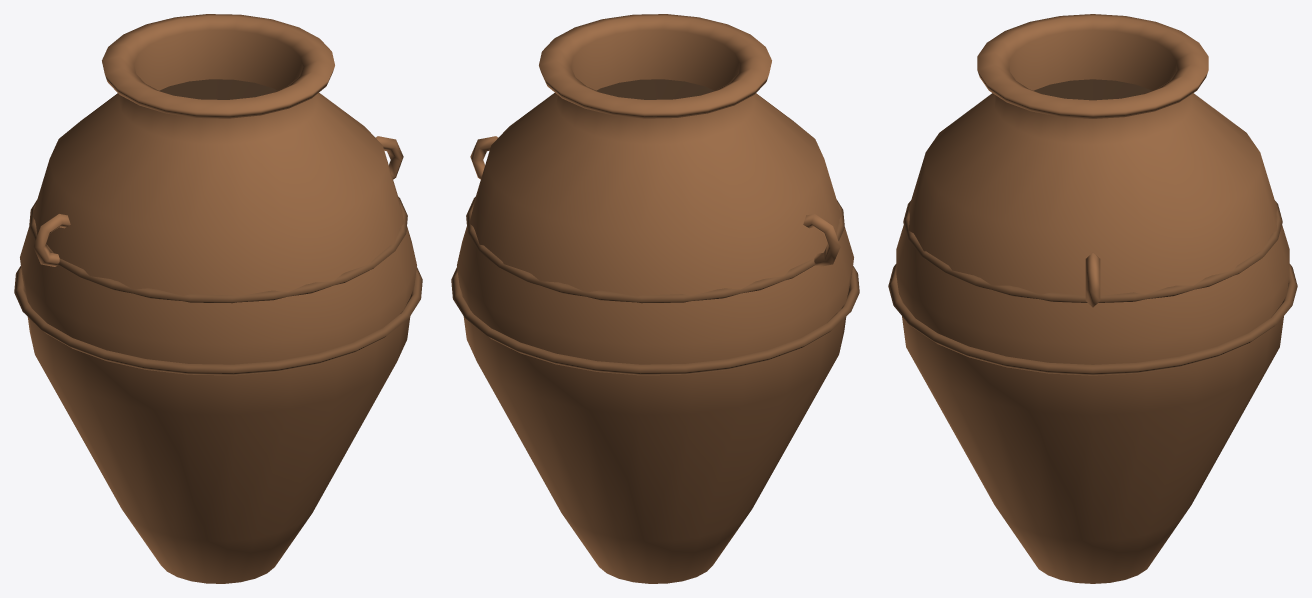
Rendered from lake-khum-shallows-0.glb.
3 renders of one model, left to right at view 1: azimuth 30°, elevation 25°; view 2: azimuth 150°, elevation 25°; view 3: azimuth 270°, elevation 25°, orthographic.
Parts seen in each view (by area): view 1: lake-khum-shallows-0; view 2: lake-khum-shallows-0; view 3: lake-khum-shallows-0.
Part boxes in pixels (box(x1,y1,x2,y2)): lake-khum-shallows-0: box(14, 14, 422, 583); lake-khum-shallows-0: box(451, 14, 859, 583); lake-khum-shallows-0: box(888, 14, 1297, 583).
Bounding box in the file's own units: 0.774 × 0.9999 × 0.7416.
